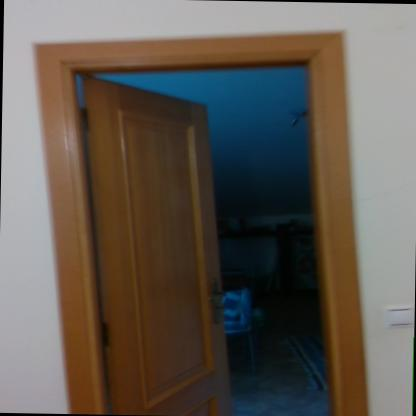semi: (44, 14, 368, 412)
